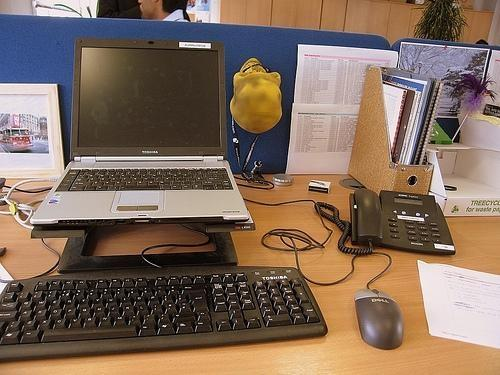truck: (0, 127, 34, 152)
